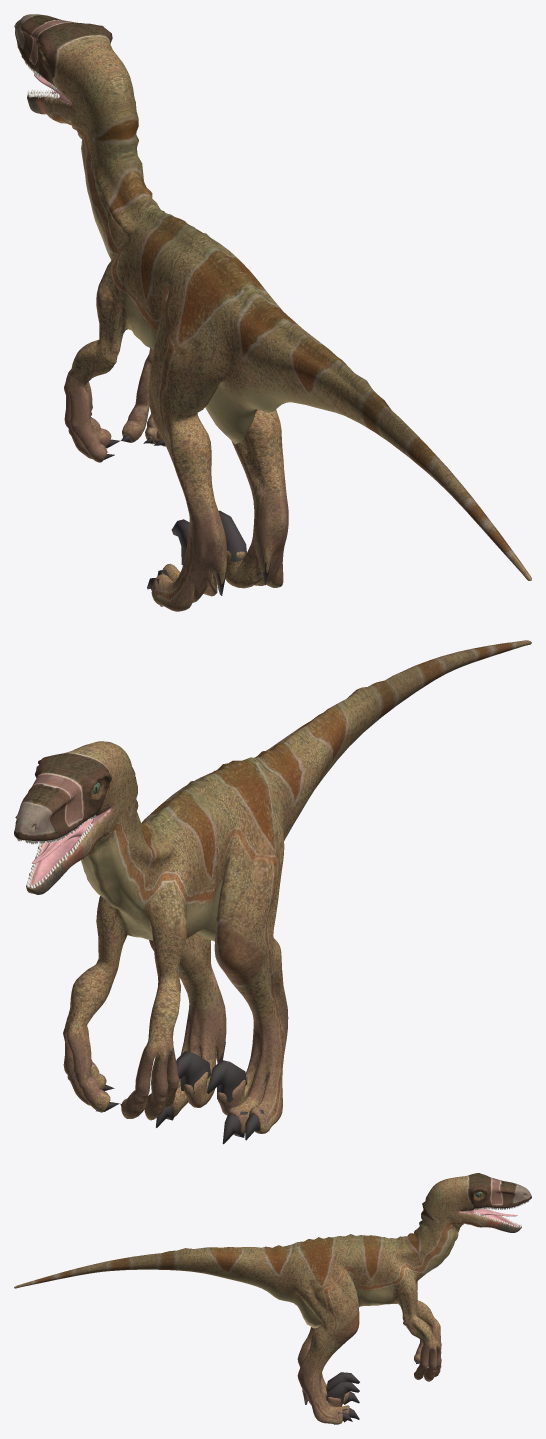
The model's file is deinonychus.glb.
3 renders of one model, top to bottom at view 1: azimuth 30°, elevation 25°; view 2: azimuth 150°, elevation 25°; view 3: azimuth 270°, elevation 25°, orthographic. The views are drawn at different scales.
Visible parts, largest first — view 1: Dromaeosaur, Claws; view 2: Dromaeosaur, Claws, Teeth; view 3: Dromaeosaur, Claws.
Boxes of the visible parts, left/top/right/bottom form: Dromaeosaur: left=14, top=14, right=531, bottom=611; Claws: left=104, top=435, right=271, bottom=606; Dromaeosaur: left=14, top=640, right=531, bottom=1135; Claws: left=96, top=1042, right=264, bottom=1144; Teeth: left=17, top=814, right=95, bottom=888; Dromaeosaur: left=14, top=1173, right=531, bottom=1424; Claws: left=304, top=1360, right=438, bottom=1424.
Bounding box in the file's own units: 1.26 × 4.87 × 9.74.
Materials: 4 (2 with a texture image).
